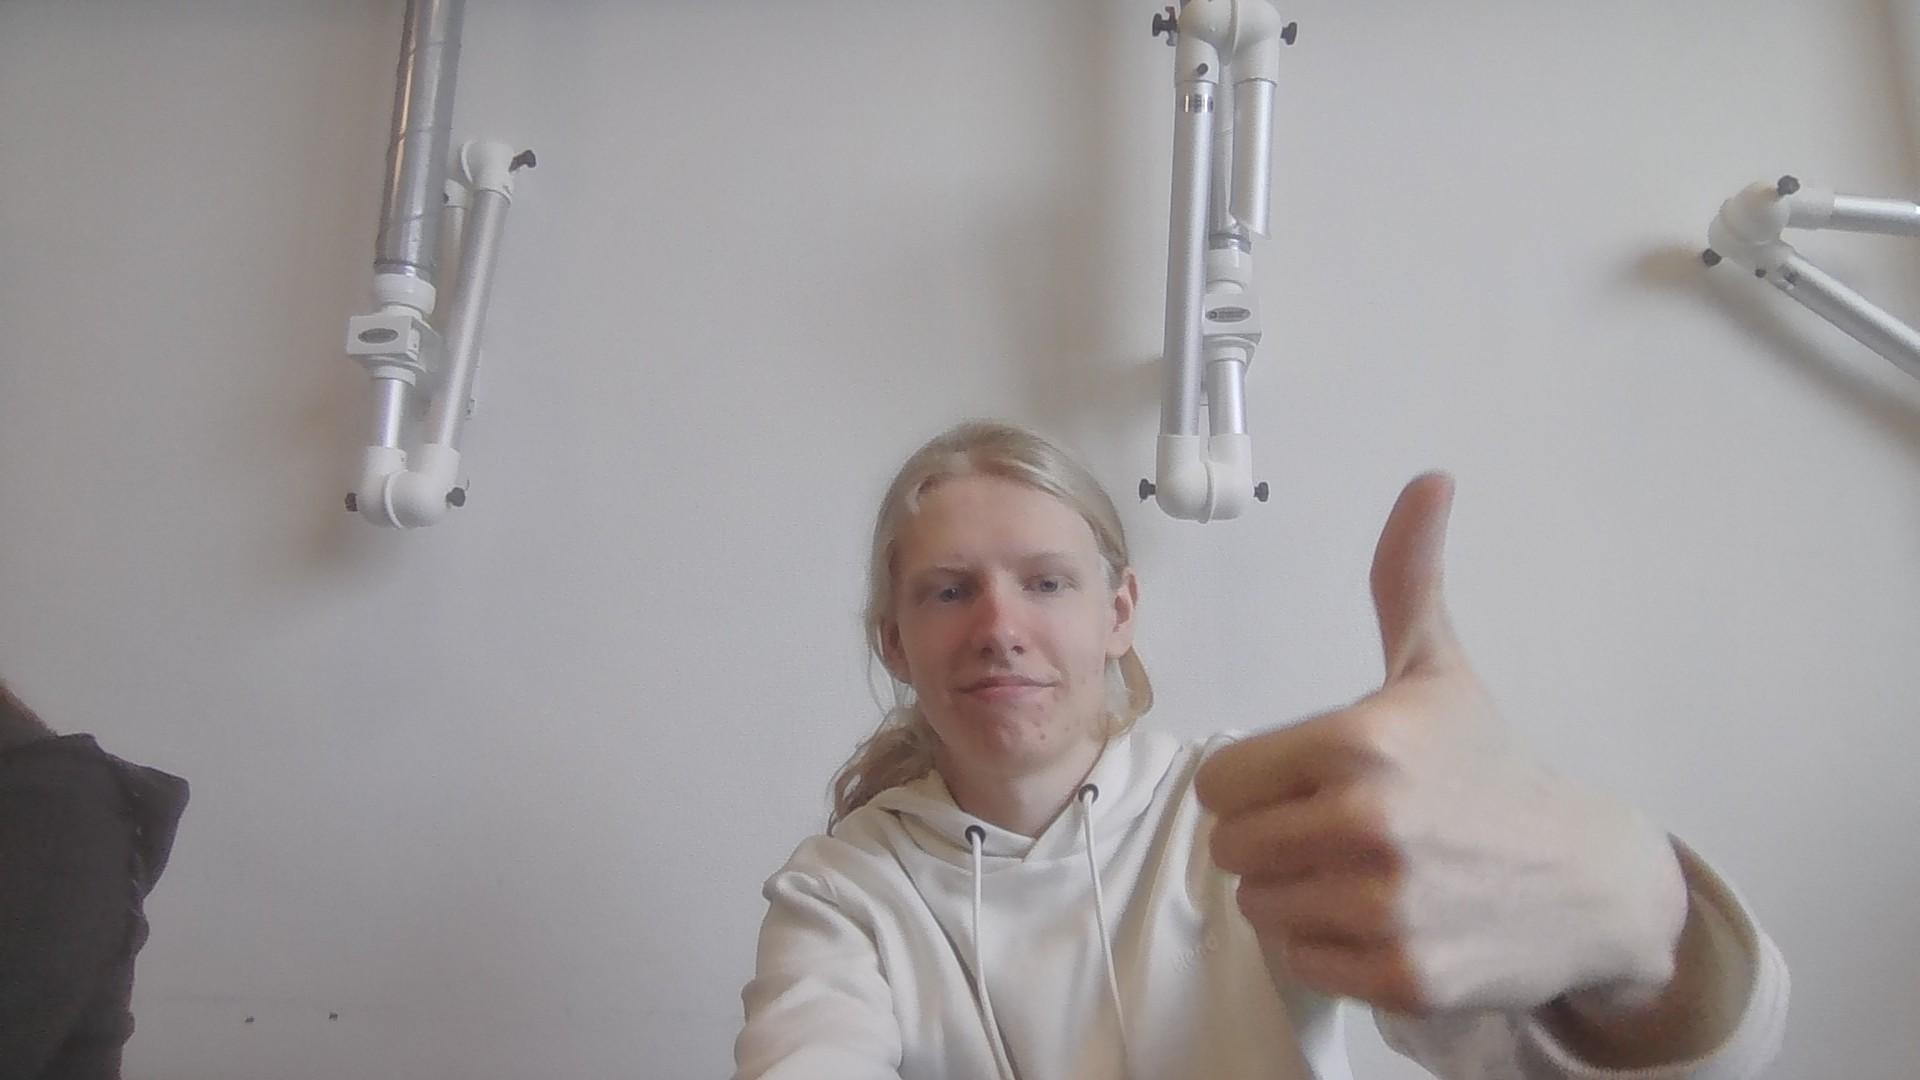thumbs up: (1195, 463, 1647, 1030)
